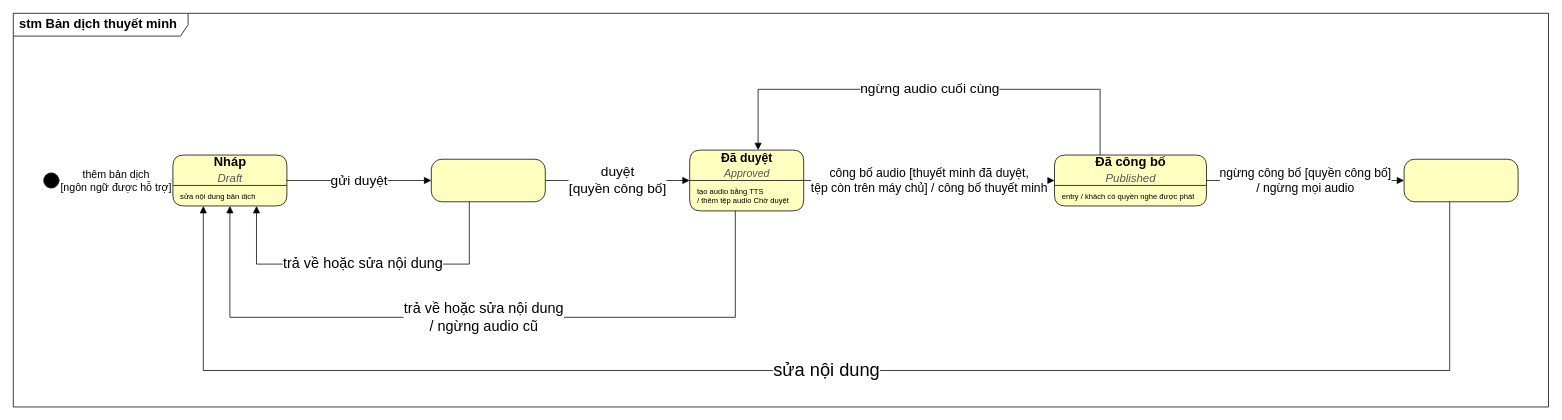
The diagram is 1562 pixels wide and 420 high, and some of its shapes have lost their labels. Each missing label, with the centre of its shape:
Chờ duyệt Pending: point 488,180
Ngừng công bố Inactive: point 1460,180
